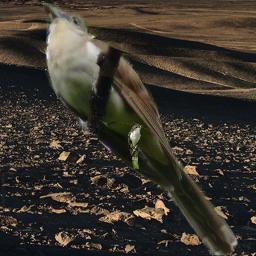Cuckoo: (43, 3, 238, 256), (128, 123, 143, 169)
